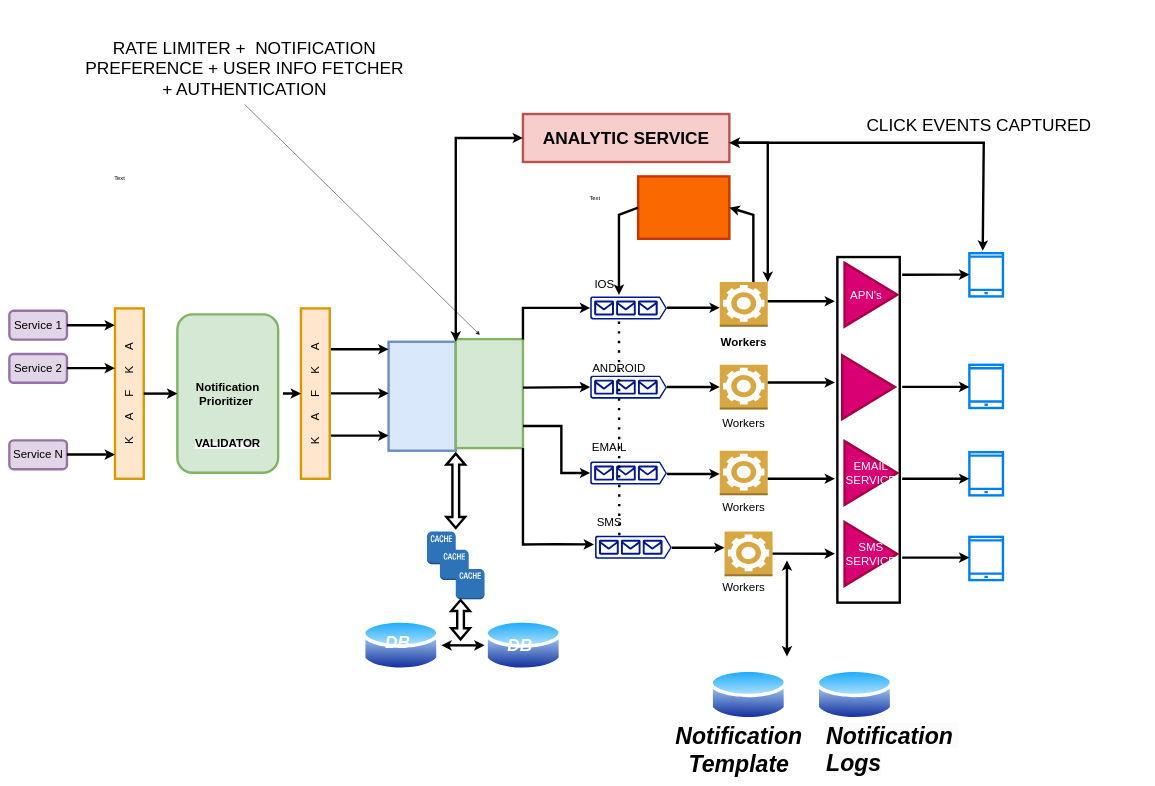
Some shapes in this 1155 by 786 pixel diagram are drawn without their labels. The centre of each missing label's shape, as x and y in pixels:
"FCM" belongs at point (868, 387).
"NOTIFICATION SERVICE / SERVER" belongs at point (422, 396).
"RATE LIMITER + NOTIFCATION PREFERENCE + USER INFO Fetcher + Authentication" belongs at point (489, 393).
"RETRY ON ERROR" belongs at point (683, 207).
